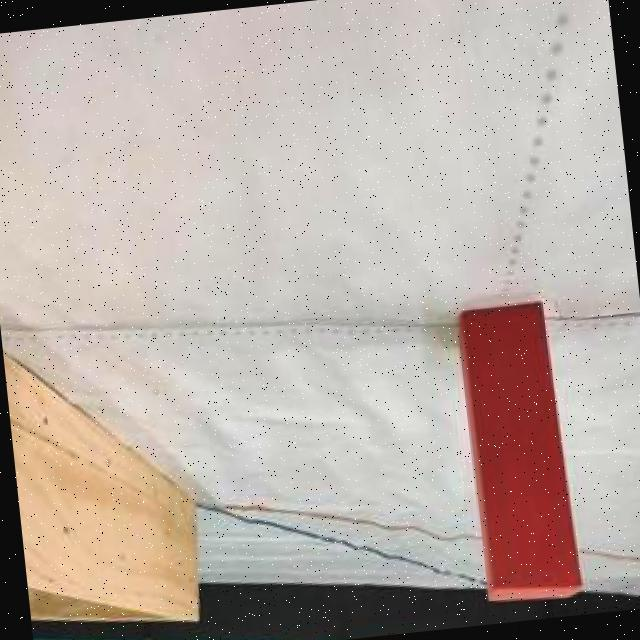redbox: (450, 296, 586, 608)
